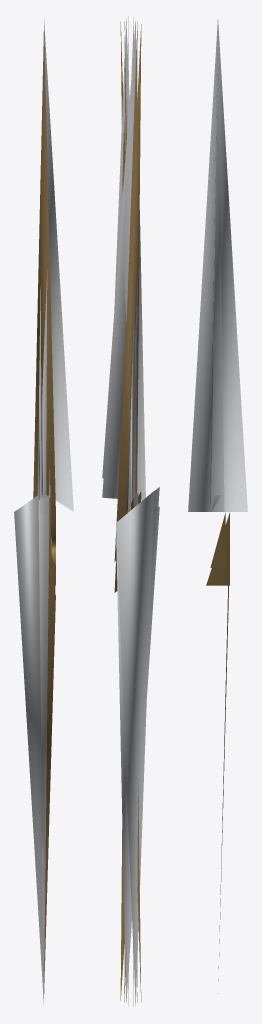
The model's file is equip_weapon_steel_scimitar.glb.
The picture shows the model from 3 angles, left to right: view 1: azimuth 90°, elevation 25°; view 2: azimuth 150°, elevation 25°; view 3: azimuth 270°, elevation 25°; orthographic projection.
Parts seen in each view (by area): view 1: equip_weapon_steel_scimitar; view 2: equip_weapon_steel_scimitar; view 3: equip_weapon_steel_scimitar.
Boxes of the visible parts, x1=… form: equip_weapon_steel_scimitar: x1=14, y1=20, x2=73, y2=1003; equip_weapon_steel_scimitar: x1=102, y1=16, x2=159, y2=1007; equip_weapon_steel_scimitar: x1=188, y1=20, x2=247, y2=993.
Bounding box in the file's own units: 0.11 × 2 × 0.11.
